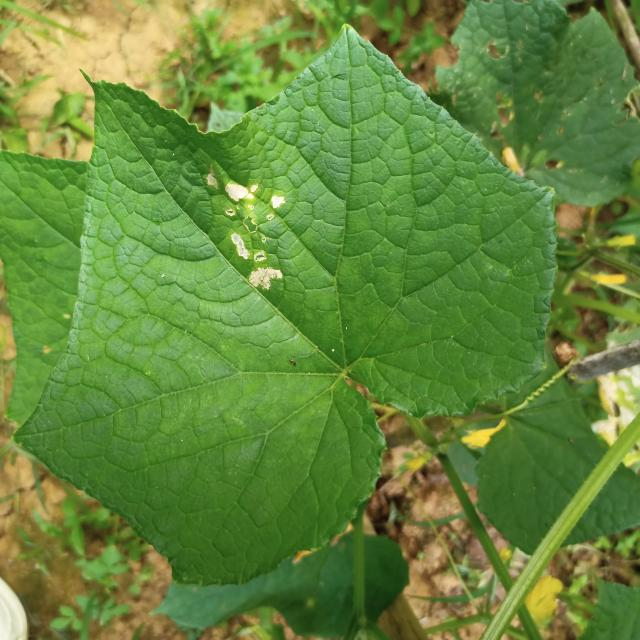disease_cucumber: (202, 165, 298, 306)
